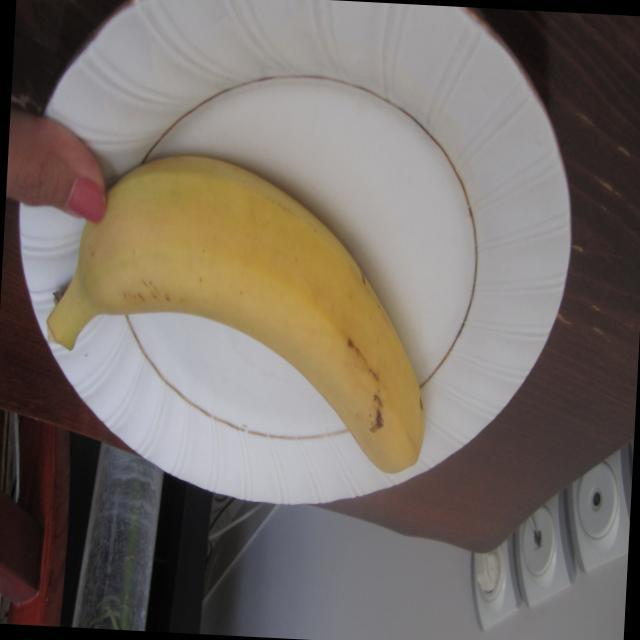Banana: (33, 140, 444, 480)
Finger: (18, 110, 128, 223)
